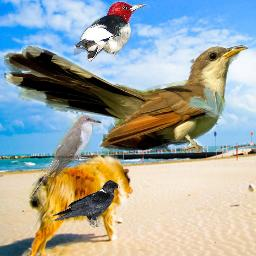Crow: (51, 180, 120, 229)
Cuckoo: (4, 45, 248, 153), (29, 115, 102, 201)
Woodpecker: (74, 1, 148, 62)
